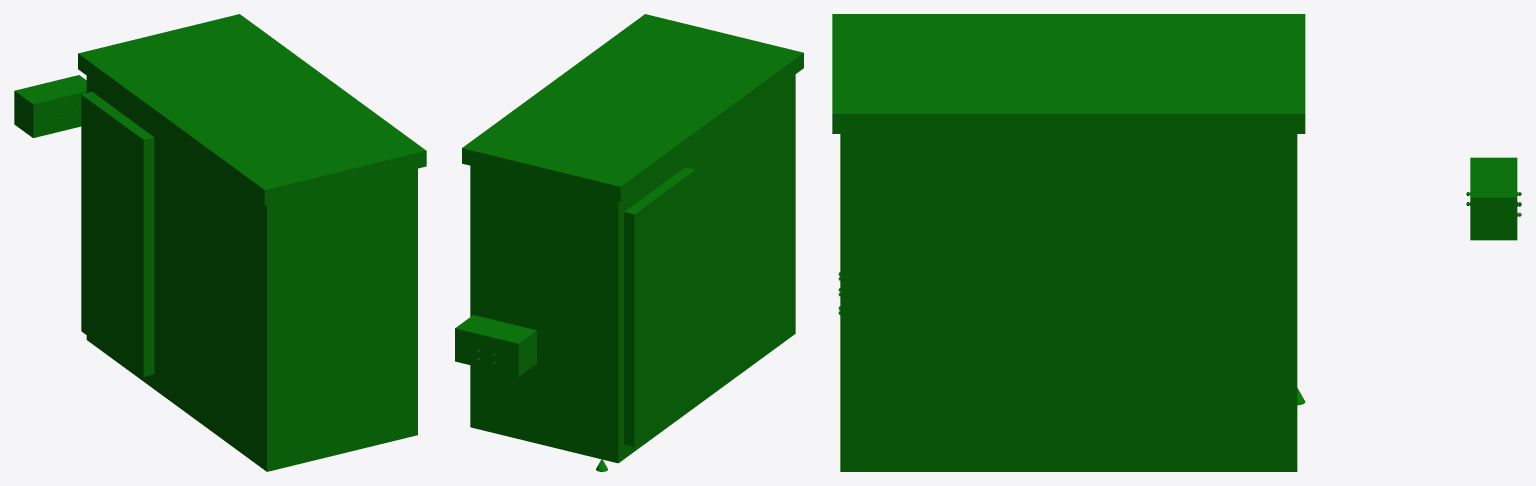
Rendered from Image-1710907683316-2280669846880_45-XX50.fbx.
3 views of the same model, side by side, from view 1: azimuth 30°, elevation 25°; view 2: azimuth 150°, elevation 25°; view 3: azimuth 270°, elevation 25° (orthographic). The views are drawn at different scales.
Parts seen in each view (by area): view 1: BOX 1 of EQUIPMENT /45-XX50, BOX 2 of EQUIPMENT /45-XX50, BOX 7 of EQUIPMENT /45-XX50, BOX 1 of SUBEQUIPMENT /45-XX50/PSV_ARRANGEMENT; view 2: BOX 1 of EQUIPMENT /45-XX50, BOX 2 of EQUIPMENT /45-XX50, BOX 7 of EQUIPMENT /45-XX50, BOX 1 of SUBEQUIPMENT /45-XX50/PSV_ARRANGEMENT; view 3: BOX 1 of EQUIPMENT /45-XX50, BOX 2 of EQUIPMENT /45-XX50, BOX 1 of SUBEQUIPMENT /45-XX50/PSV_ARRANGEMENT.
Boxes of the visible parts, x1,y1,x2,y2 form: BOX 1 of EQUIPMENT /45-XX50: [86, 18, 417, 471]; BOX 2 of EQUIPMENT /45-XX50: [78, 14, 426, 205]; BOX 7 of EQUIPMENT /45-XX50: [81, 92, 154, 376]; BOX 1 of SUBEQUIPMENT /45-XX50/PSV_ARRANGEMENT: [14, 75, 86, 137]; BOX 1 of EQUIPMENT /45-XX50: [470, 17, 795, 463]; BOX 2 of EQUIPMENT /45-XX50: [462, 14, 803, 202]; BOX 7 of EQUIPMENT /45-XX50: [624, 167, 695, 446]; BOX 1 of SUBEQUIPMENT /45-XX50/PSV_ARRANGEMENT: [455, 315, 536, 376]; BOX 1 of EQUIPMENT /45-XX50: [840, 18, 1297, 471]; BOX 2 of EQUIPMENT /45-XX50: [832, 14, 1305, 133]; BOX 1 of SUBEQUIPMENT /45-XX50/PSV_ARRANGEMENT: [1470, 157, 1517, 240].
Bounding box in the file's own units: 1.55 × 4.37 × 2.62.
